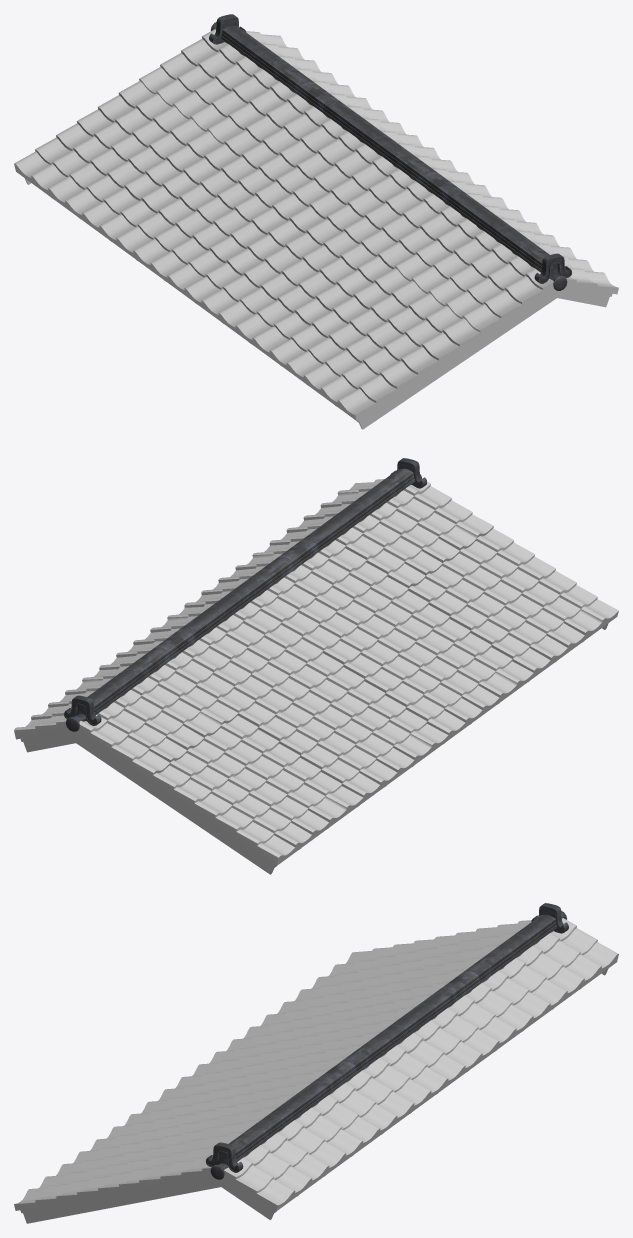
The model's file is SM_KYT_Roof1F_A_S1.fbx.
3 views of the same model, one above another, from view 1: azimuth 30°, elevation 25°; view 2: azimuth 150°, elevation 25°; view 3: azimuth 330°, elevation 25° (orthographic).
Parts seen in each view (by area): view 1: SM_KYT_Roof1F_A_S1_LOD0; view 2: SM_KYT_Roof1F_A_S1_LOD0; view 3: SM_KYT_Roof1F_A_S1_LOD0.
Part boxes in pixels (bbox=[...]): SM_KYT_Roof1F_A_S1_LOD0: bbox=[14, 14, 618, 429]; SM_KYT_Roof1F_A_S1_LOD0: bbox=[14, 458, 618, 874]; SM_KYT_Roof1F_A_S1_LOD0: bbox=[14, 903, 618, 1223].
Size of the model in its own units: 216 by 484 by 96.86.
